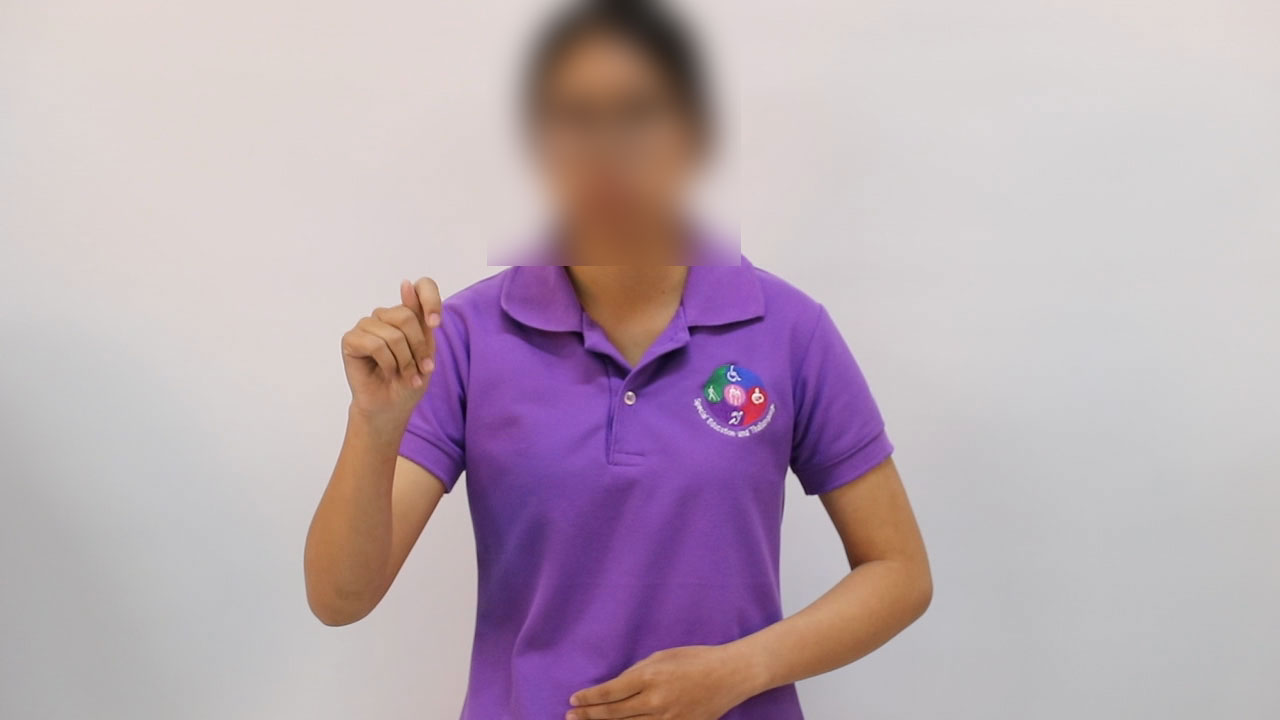tor: (303, 261, 481, 453)
